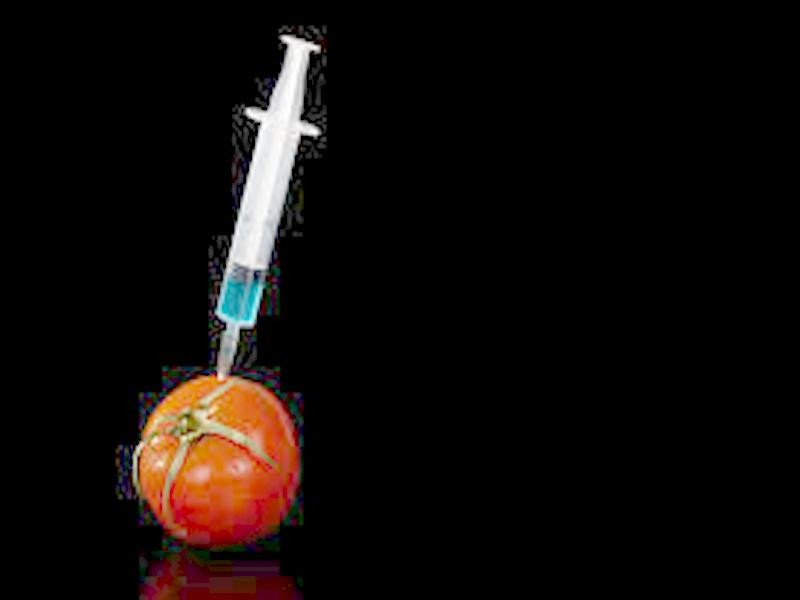Tomato: (134, 374, 300, 538)
